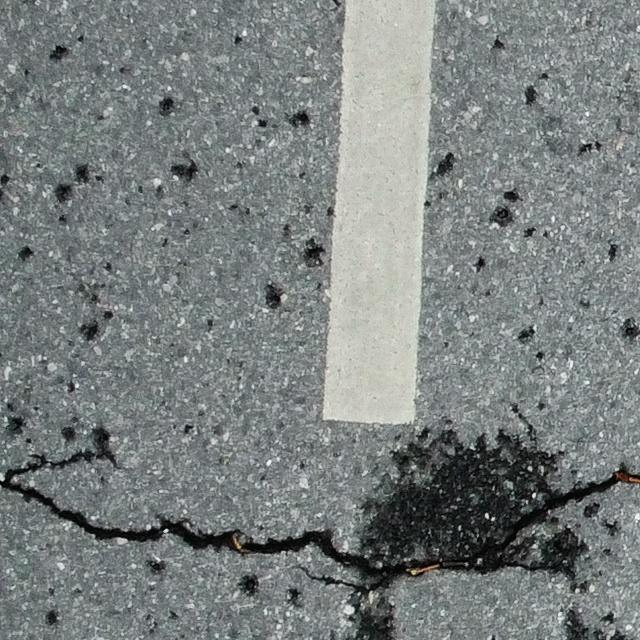TransverseCrack: (1, 448, 639, 594)
